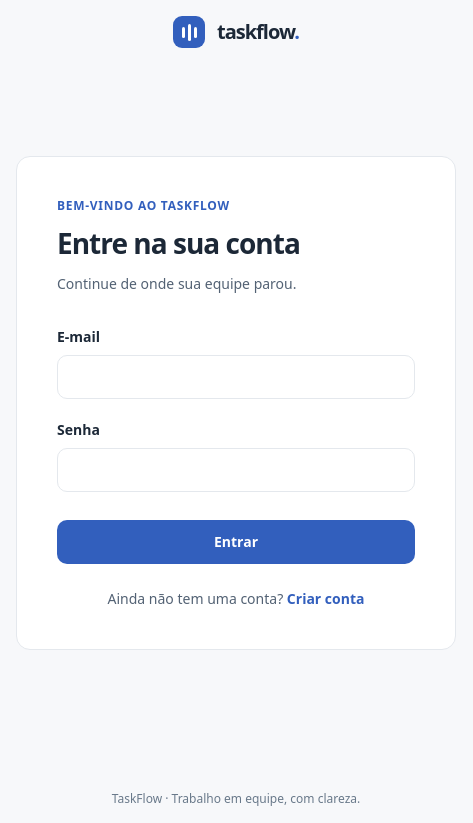
Test: Authentication forms › displays a generic error if login profile verification fails
Type "pessoa@example.test" into the field with id "login-email" at (236, 377), box [57,355,415,399]
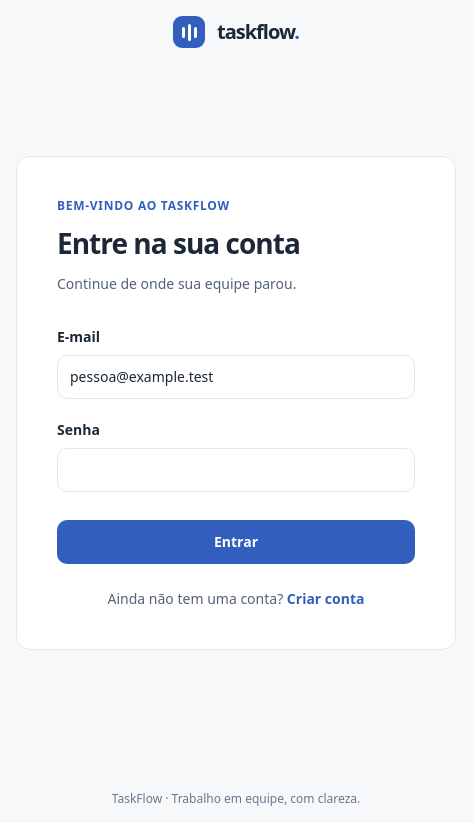
Type "synthetic-password" into the password field with id "login-password" at (236, 470), box [57,448,415,492]
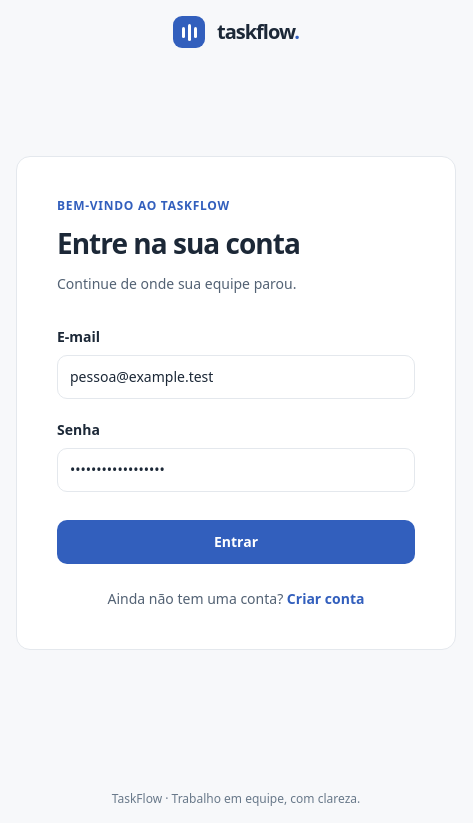
Submit the form, box [57,326,415,564]
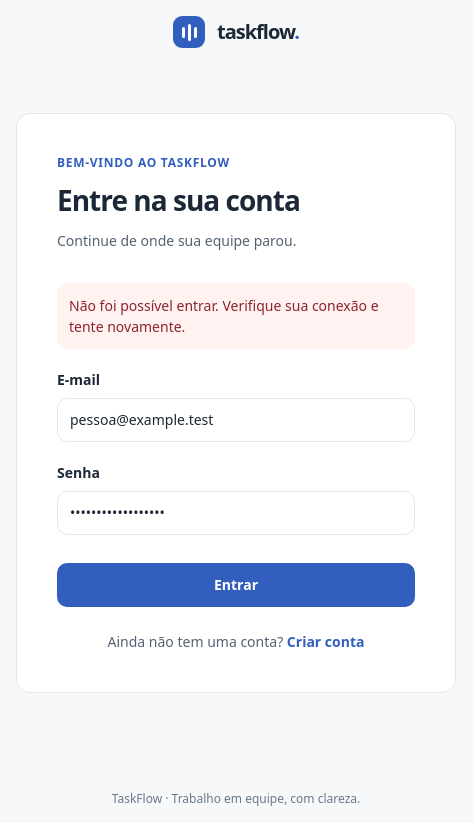
Now the message "Não foi possível entrar. Verifique sua conexão e tente novamente." is shown, box [57,283,415,349]
